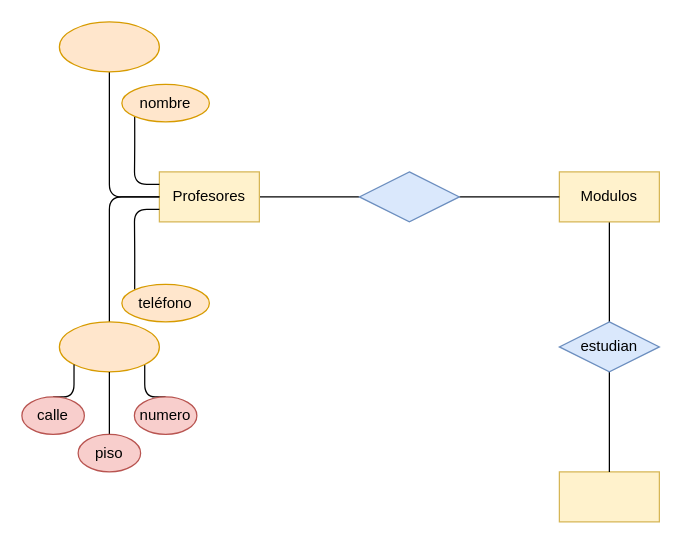
This 681x544 diagram has some shape labels left out. Each missing label, with the box of its shape:
Alumnos: (558, 471, 659, 522)
Dirección: (58, 321, 159, 372)
DNI: (58, 21, 159, 72)
Imparten: (358, 171, 459, 222)
